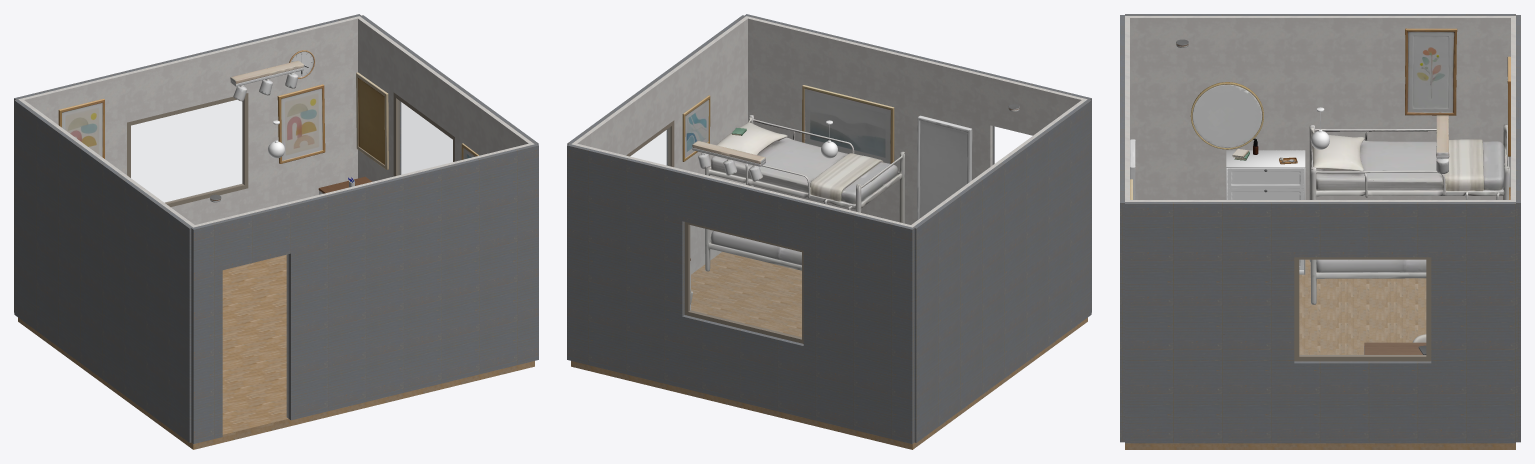
Rendered from scene_web.glb.
3 renders of one model, left to right at view 1: azimuth 30°, elevation 25°; view 2: azimuth 150°, elevation 25°; view 3: azimuth 270°, elevation 25°, orthographic. The views are drawn at different scales.
Parts seen in each view (by area): view 1: geometry_0.003, geometry_0.007, geometry_0, Mesh_0, geometry_0.004, glass, geometry_0.012, glass.001, geometry_0.014, frame, geometry_0.011, geometry_0.002 (+5 smaller); view 2: geometry_0.001, geometry_0.007, geometry_0.002, geometry_0.004, geometry_0.010, Mesh_0, glass, geometry_0.016, geometry_0.017, frame, geometry_0.020, geometry_0.015 (+5 smaller); view 3: geometry_0.005, geometry_0.006, geometry_0.009, glass.001, Mesh_0, geometry_0.019, geometry_0.018, frame.001, geometry_0.001, geometry_0.003, P_779afc3812688354.001, P_2fd1f4982963c354.001 (+7 smaller).
Part boxes in pixels (x1,y1,x2,y2): geometry_0.003: (191, 144, 538, 443); geometry_0.007: (14, 99, 192, 442); geometry_0: (22, 17, 357, 224); Mesh_0: (18, 254, 534, 449); geometry_0.004: (356, 16, 534, 181); glass: (131, 100, 242, 202); geometry_0.012: (277, 84, 325, 163); glass.001: (397, 100, 452, 174); geometry_0.014: (356, 72, 388, 169); frame: (127, 93, 248, 207); geometry_0.011: (58, 98, 104, 158); geometry_0.002: (195, 143, 530, 418); geometry_0.001: (567, 144, 914, 443); geometry_0.007: (913, 99, 1091, 442); geometry_0.002: (748, 17, 1083, 224); geometry_0.004: (571, 16, 749, 274); geometry_0.010: (705, 115, 905, 271); Mesh_0: (571, 252, 1087, 449); glass: (690, 225, 801, 337); geometry_0.016: (802, 85, 894, 163); geometry_0.017: (917, 115, 972, 220); frame: (684, 222, 803, 343); geometry_0.020: (692, 141, 765, 181); geometry_0.015: (682, 95, 710, 161); geometry_0.005: (1125, 202, 1515, 443); geometry_0.006: (1125, 16, 1515, 199); geometry_0.009: (1309, 124, 1509, 304); glass.001: (1299, 260, 1425, 355); Mesh_0: (1125, 259, 1515, 449); geometry_0.019: (1405, 28, 1457, 115); geometry_0.018: (1190, 82, 1263, 149); frame.001: (1294, 257, 1431, 361); geometry_0.001: (1516, 15, 1520, 442); geometry_0.003: (1120, 15, 1124, 442); P_779afc3812688354.001: (1227, 168, 1303, 188); P_2fd1f4982963c354.001: (1226, 150, 1305, 274).
Size of the model in its own units: 4.6 by 2.8 by 4.1.
36 materials, 29 textured.
